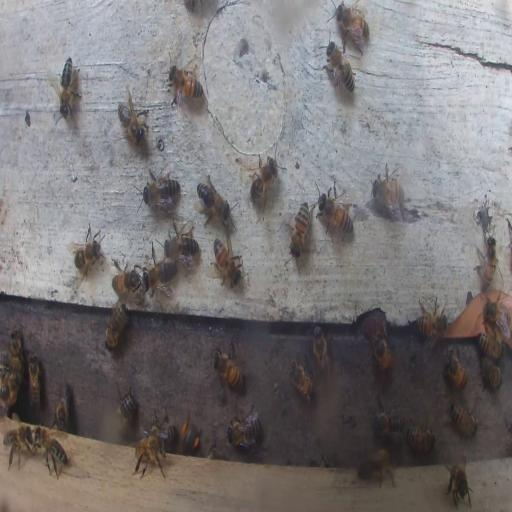bee: (246, 150, 282, 216), (372, 160, 408, 220), (316, 182, 354, 234), (70, 222, 104, 280), (330, 4, 370, 53), (196, 174, 232, 227), (324, 41, 357, 95), (164, 217, 198, 269), (36, 428, 70, 479), (132, 432, 169, 477), (118, 92, 148, 147), (143, 170, 182, 211), (54, 57, 80, 118), (361, 444, 397, 488), (227, 403, 261, 448), (212, 237, 242, 287), (168, 63, 205, 102), (4, 422, 32, 472), (144, 253, 176, 296), (372, 400, 405, 439), (213, 347, 244, 388), (104, 300, 129, 350), (445, 459, 470, 507), (289, 202, 311, 256), (288, 359, 315, 401), (476, 237, 498, 287), (369, 329, 392, 373), (482, 298, 510, 334), (416, 312, 449, 342), (444, 348, 468, 389), (311, 326, 329, 378), (404, 423, 434, 453), (111, 265, 142, 293), (450, 405, 477, 437), (0, 370, 22, 408), (54, 381, 71, 430), (181, 416, 201, 456), (116, 386, 136, 425), (28, 353, 42, 408), (478, 328, 502, 359), (152, 415, 175, 442), (484, 363, 502, 390), (12, 328, 22, 370), (318, 452, 335, 468), (208, 444, 223, 457)
